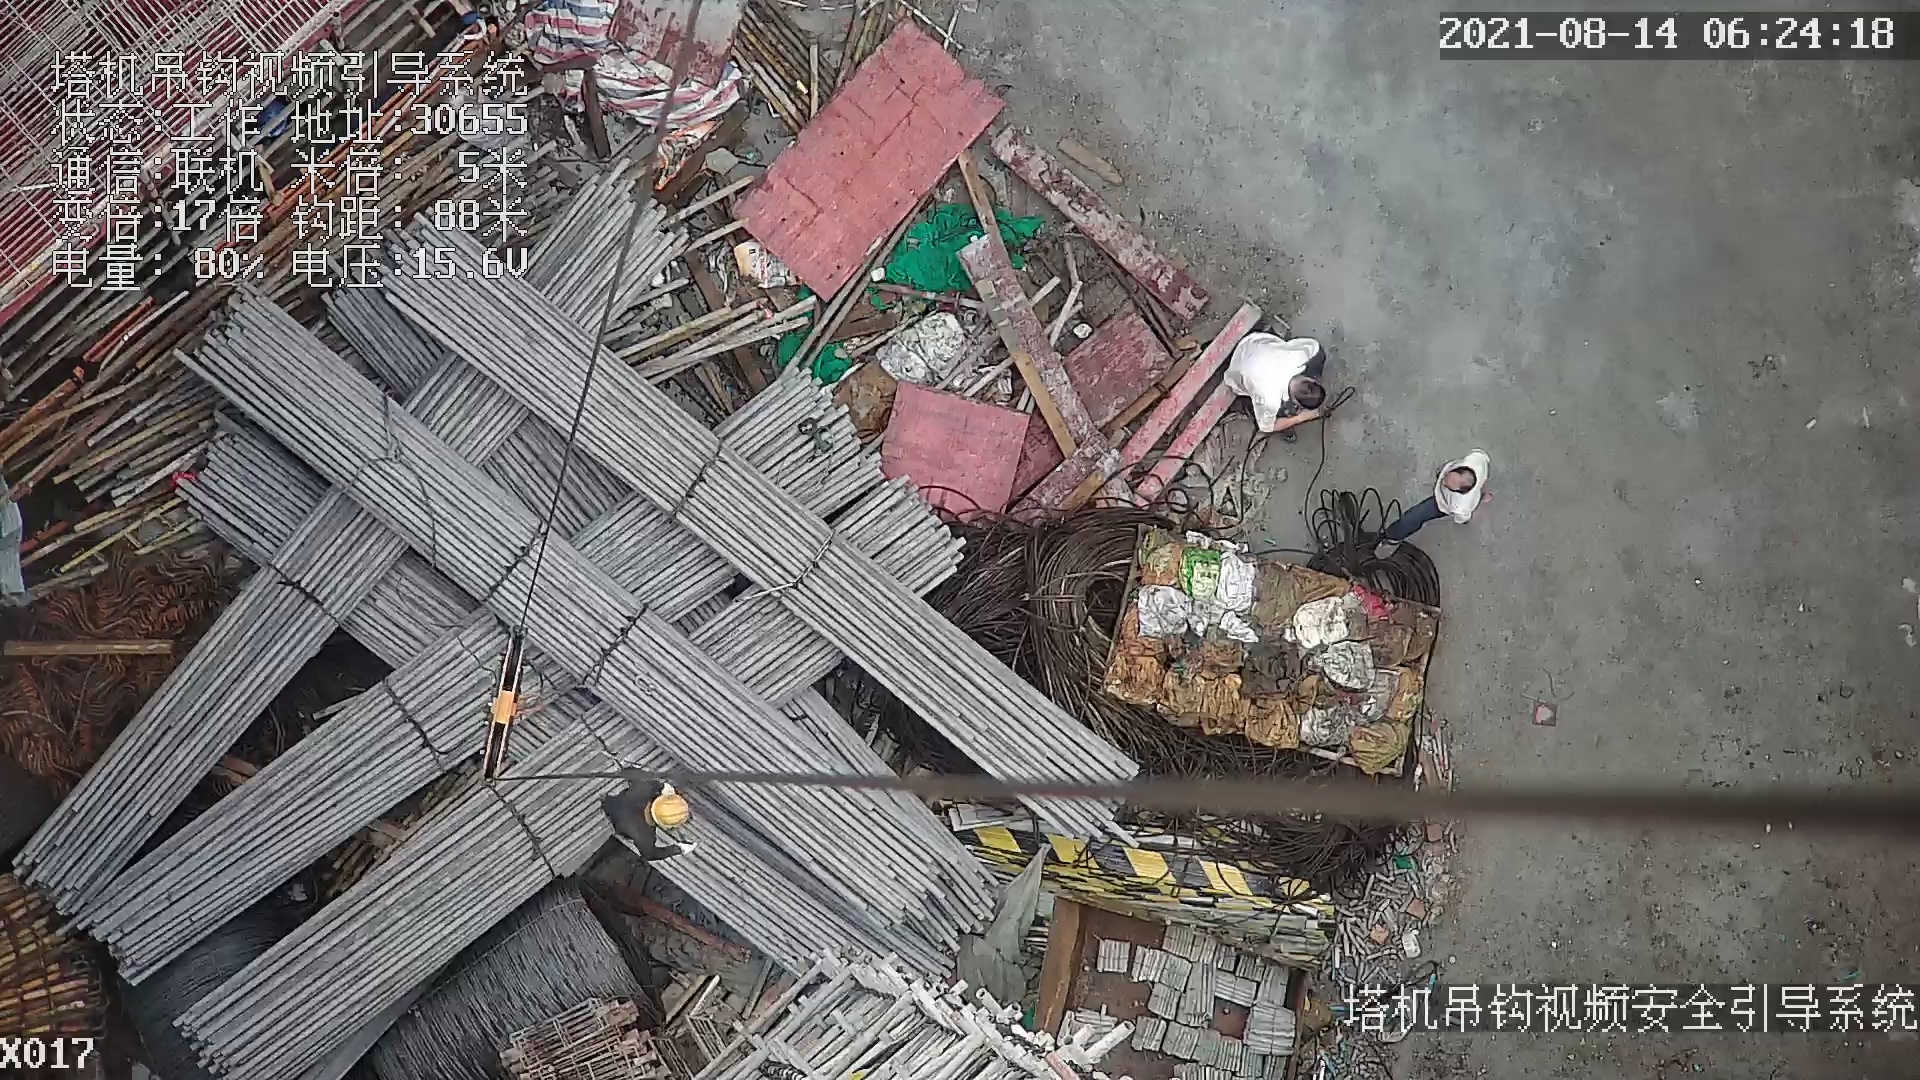helmet: (650, 794, 689, 829)
hook: (474, 617, 531, 786)
person: (1376, 440, 1495, 563), (1217, 327, 1338, 431), (600, 765, 709, 871)
rebar: (167, 283, 947, 922), (388, 279, 1140, 850), (176, 704, 697, 1080), (65, 623, 577, 987), (21, 488, 408, 907)
wood: (1, 870, 101, 1031)
